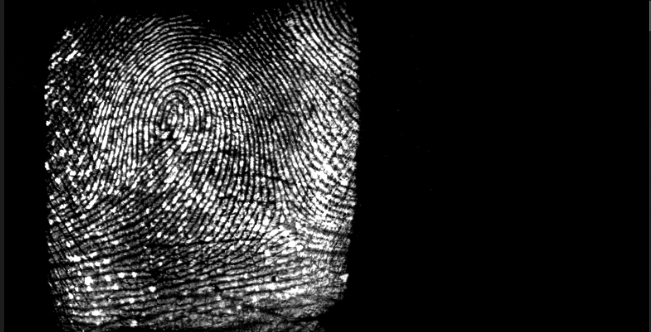nucelo: (156, 93, 190, 136)
verticilo: (272, 208, 300, 233), (131, 149, 154, 168)
